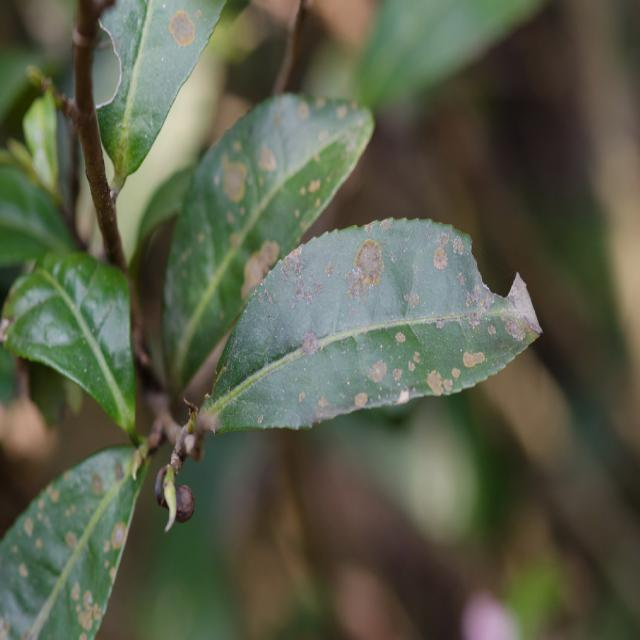Tea algae leaf spot: (259, 227, 548, 397)
